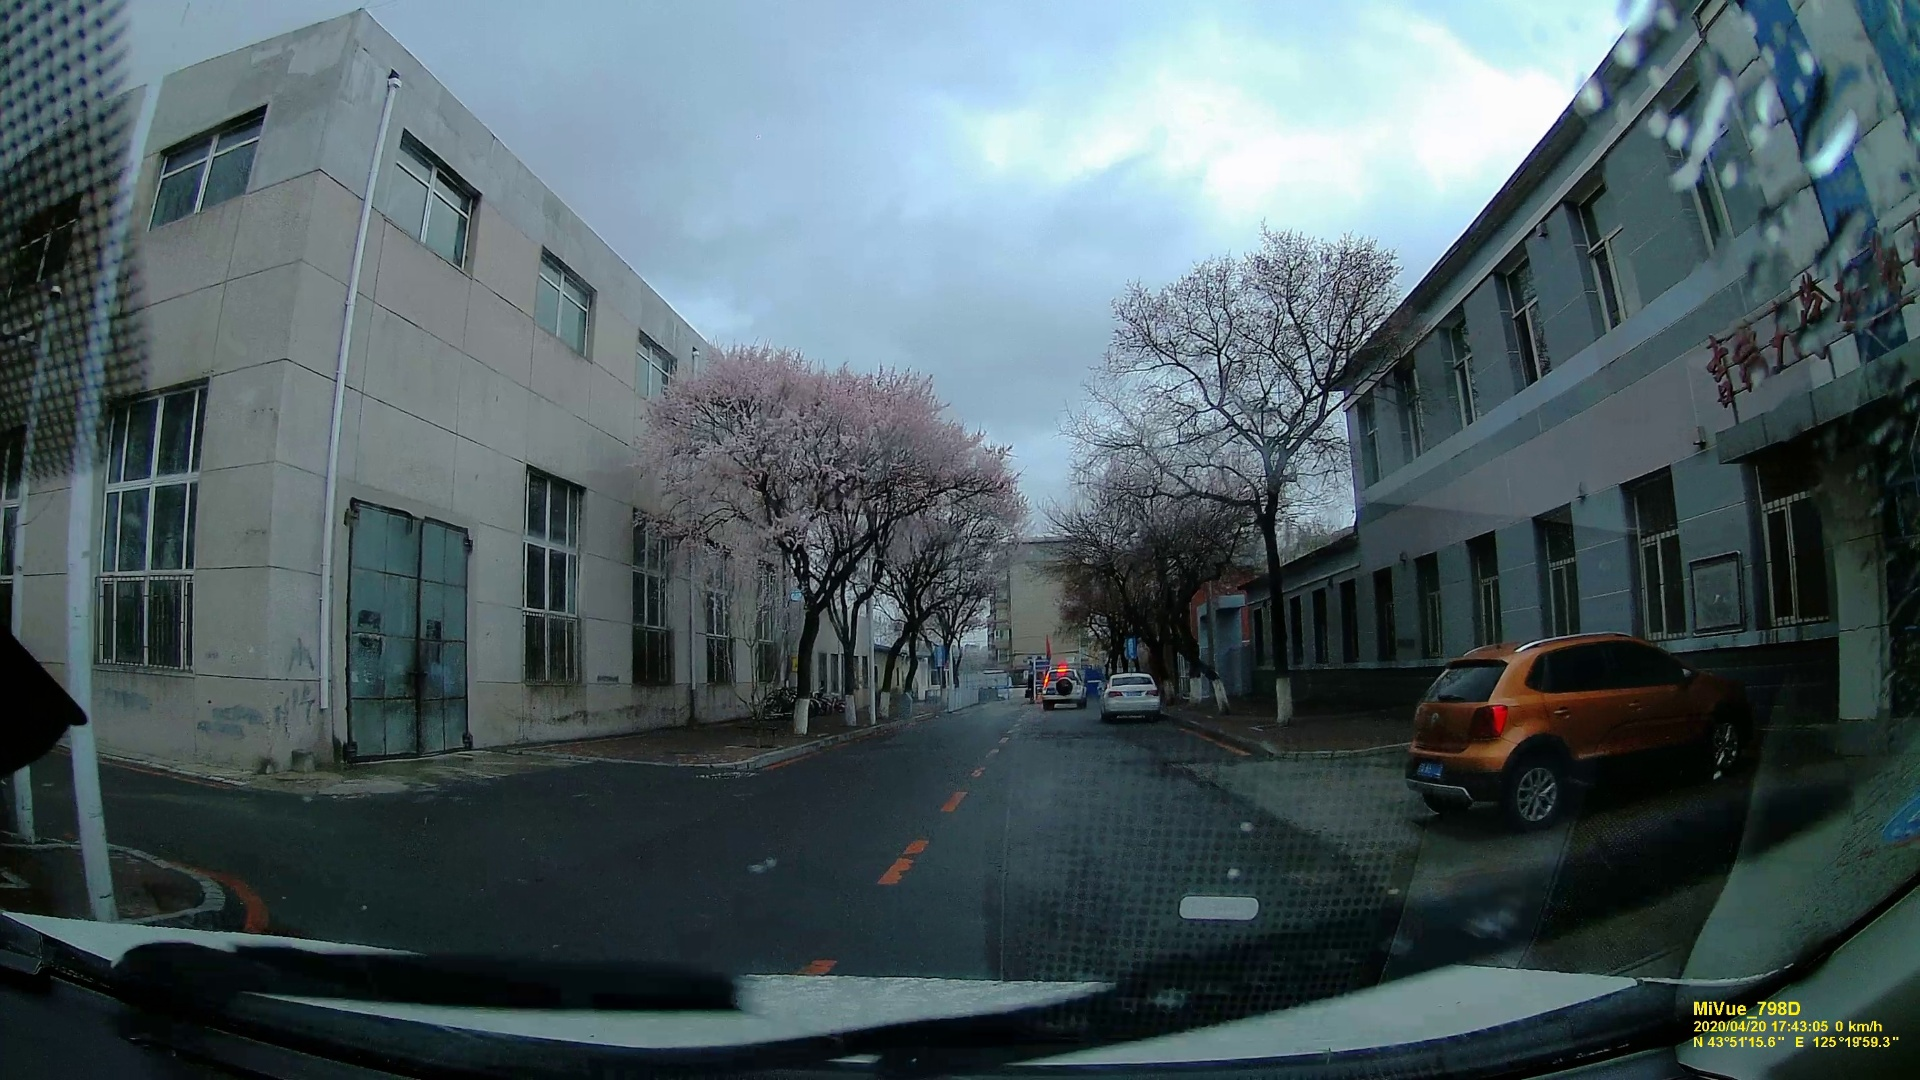vehicle: (1408, 626, 1759, 831), (1097, 670, 1162, 723), (1040, 669, 1088, 709)
